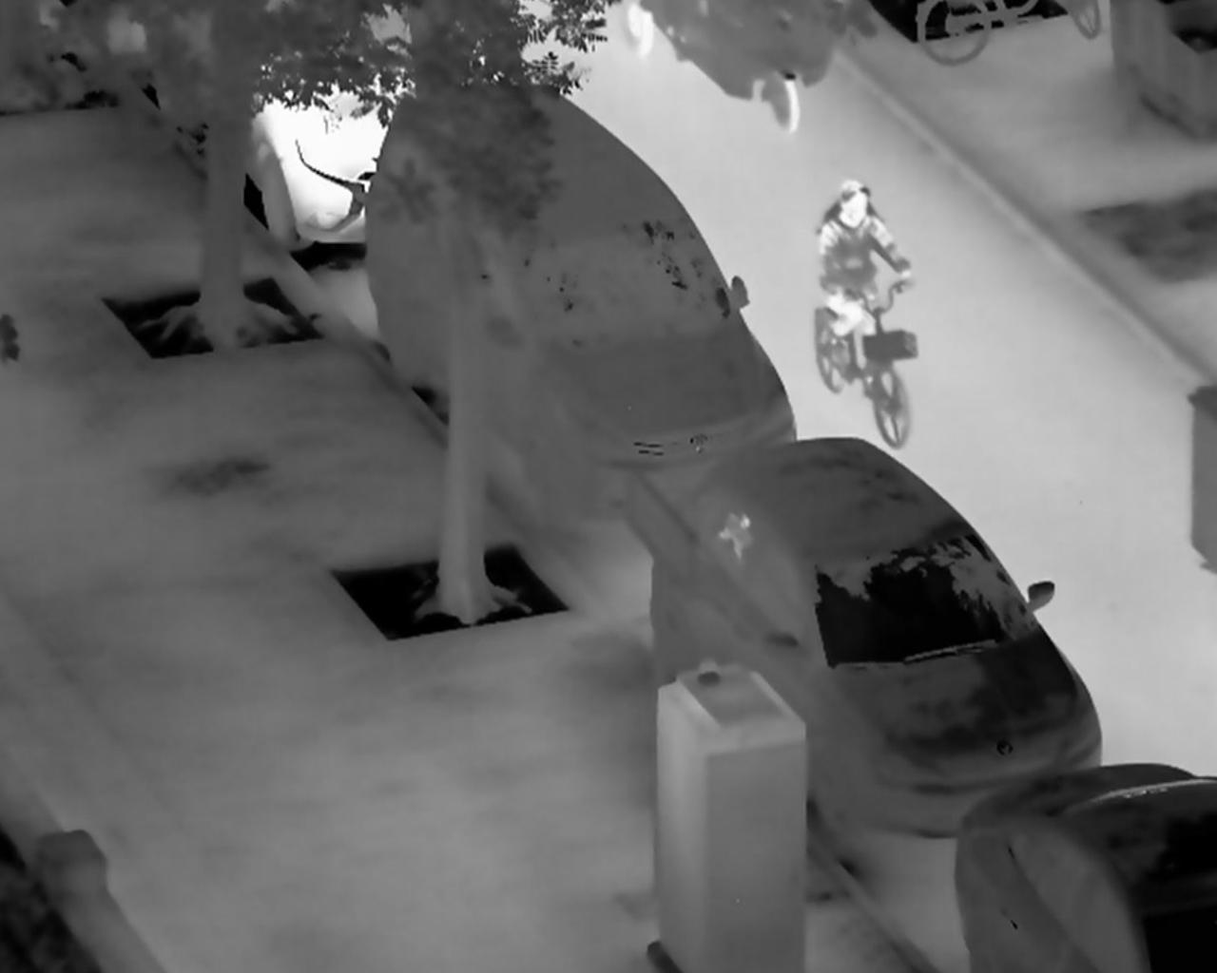person: (814, 180, 918, 358)
